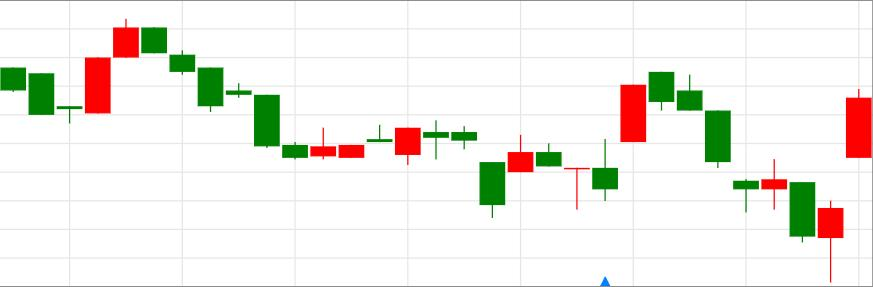hammer_rise: (649, 71, 844, 283)
